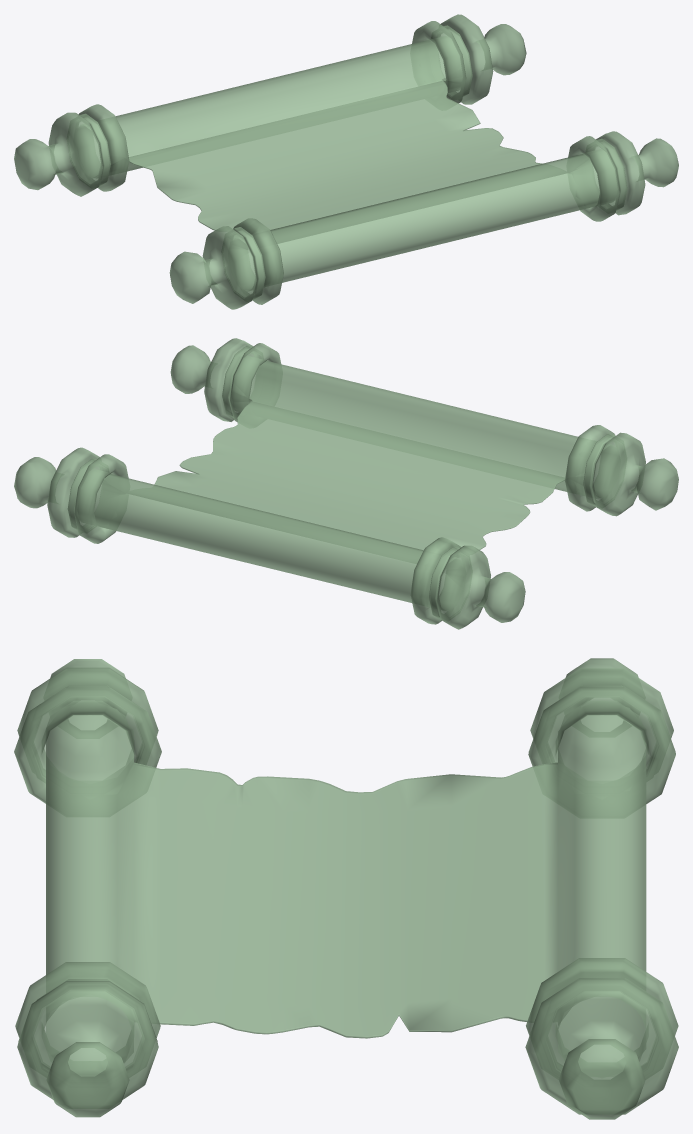
The model's file is SM_Scroll_01_Unity.fbx.
3 views of the same model, one above another, from view 1: azimuth 30°, elevation 25°; view 2: azimuth 150°, elevation 25°; view 3: azimuth 270°, elevation 25° (orthographic). The views are drawn at different scales.
Parts seen in each view (by area): view 1: SM_Scrools_01_Ornament_Metal_low; view 2: SM_Scrools_01_Ornament_Metal_low; view 3: SM_Scrools_01_Ornament_Metal_low.
Boxes of the visible parts, <box> form: SM_Scrools_01_Ornament_Metal_low: <box>14,14,678,309</box>; SM_Scrools_01_Ornament_Metal_low: <box>14,338,678,629</box>; SM_Scrools_01_Ornament_Metal_low: <box>14,658,678,1119</box>.
Bounding box in the file's own units: 76.71 × 11.78 × 53.63.
